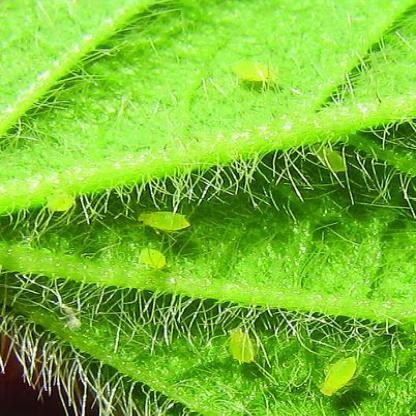aphid: (320, 350, 361, 401), (305, 140, 353, 178), (133, 206, 197, 234), (228, 56, 279, 87), (222, 324, 258, 367), (36, 190, 80, 218), (134, 244, 170, 274)
